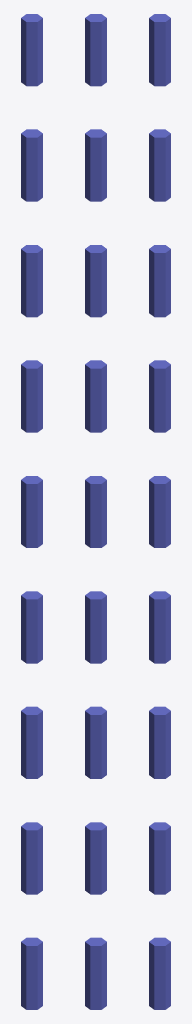
The model's file is pole-blue.gltf.
The picture shows the model from 3 angles, left to right: view 1: azimuth 30°, elevation 25°; view 2: azimuth 150°, elevation 25°; view 3: azimuth 330°, elevation 25°; orthographic projection.
Parts seen in each view (by area): view 1: Cylinder; view 2: Cylinder; view 3: Cylinder.
Part boxes in pixels (x1=…): Cylinder: x1=21, y1=14, x2=42, y2=1009; Cylinder: x1=85, y1=14, x2=106, y2=1009; Cylinder: x1=149, y1=14, x2=170, y2=1009.
Bounding box in the file's own units: 0.05 × 2.85 × 0.0577.
